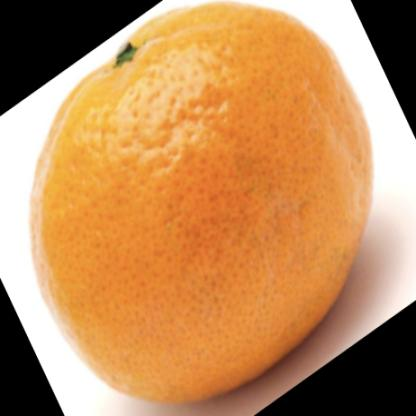fresh: (33, 5, 377, 403)
